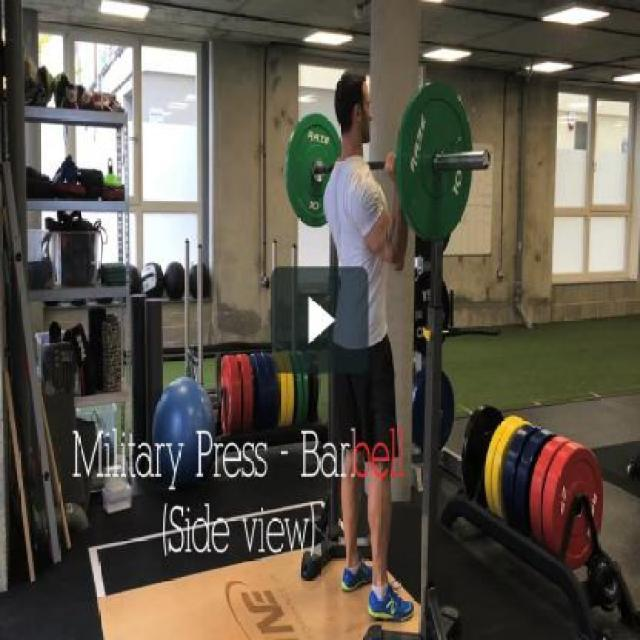Barbell: (478, 138, 494, 176)
